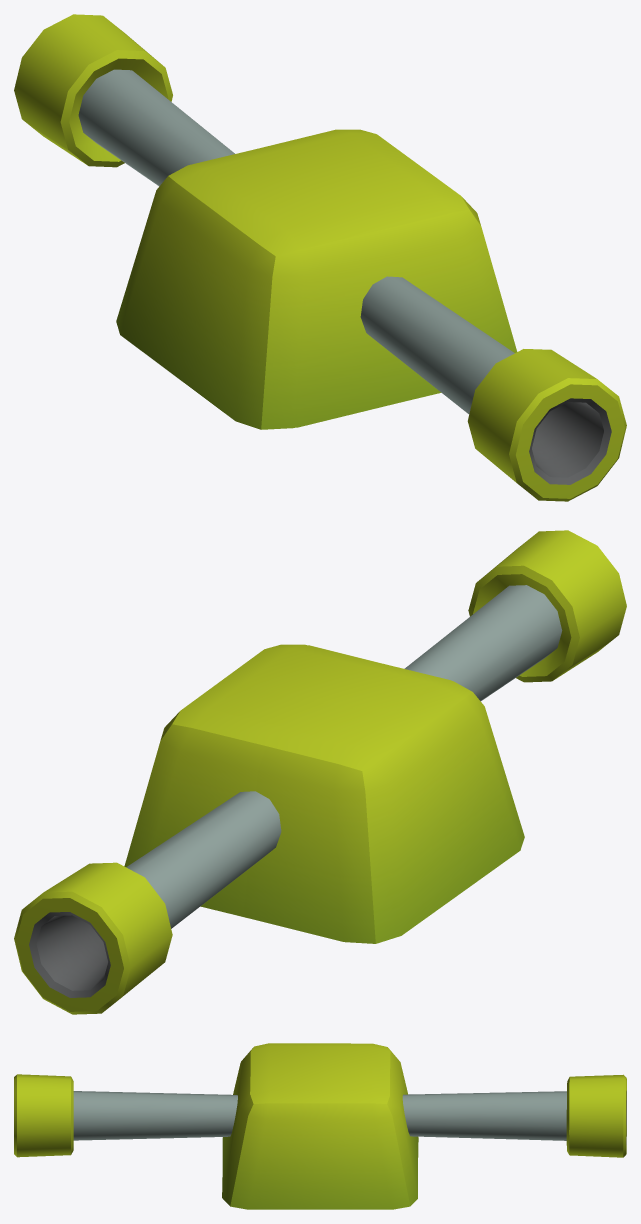
File: Barrel_with_two_gun.fbx
3 renders of one model, top to bottom at view 1: azimuth 30°, elevation 25°; view 2: azimuth 150°, elevation 25°; view 3: azimuth 270°, elevation 25°, orthographic. The views are drawn at different scales.
Parts seen in each view (by area): view 1: Barrel.003, Barrel; view 2: Barrel.003, Barrel; view 3: Barrel, Barrel.003.
Boxes of the visible parts, bbox=[...] form: Barrel.003: bbox=[14, 14, 487, 429]; Barrel: bbox=[237, 129, 626, 501]; Barrel.003: bbox=[14, 645, 524, 1014]; Barrel: bbox=[124, 530, 626, 916]; Barrel: bbox=[14, 1047, 417, 1209]; Barrel.003: bbox=[222, 1043, 626, 1197].
Bounding box in the file's own units: 29.19 × 16.18 × 90.24.
